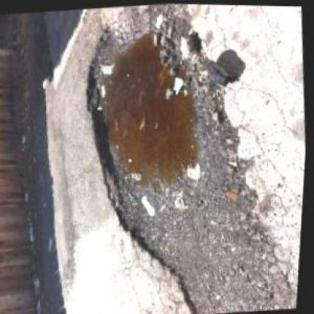Hueco: (68, 1, 305, 287)
